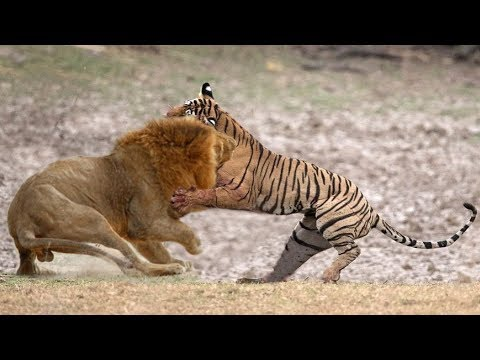lion: (7, 115, 239, 283)
tiger: (158, 79, 376, 280)
